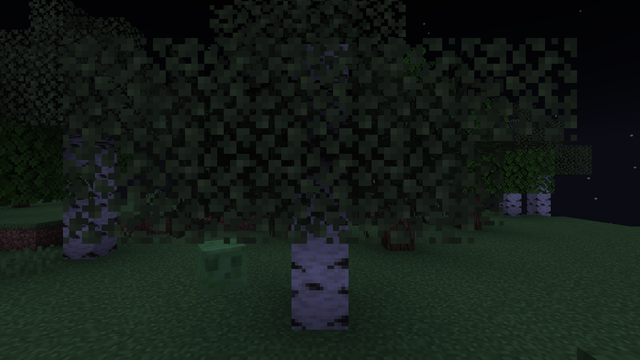slimes: (190, 245, 247, 292)
